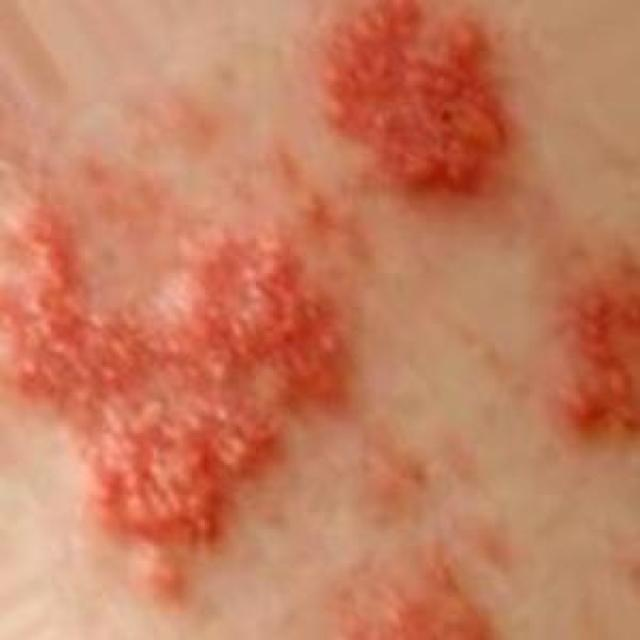Shingles: (0, 177, 352, 602), (322, 0, 512, 198), (554, 237, 640, 439), (323, 556, 491, 640)
